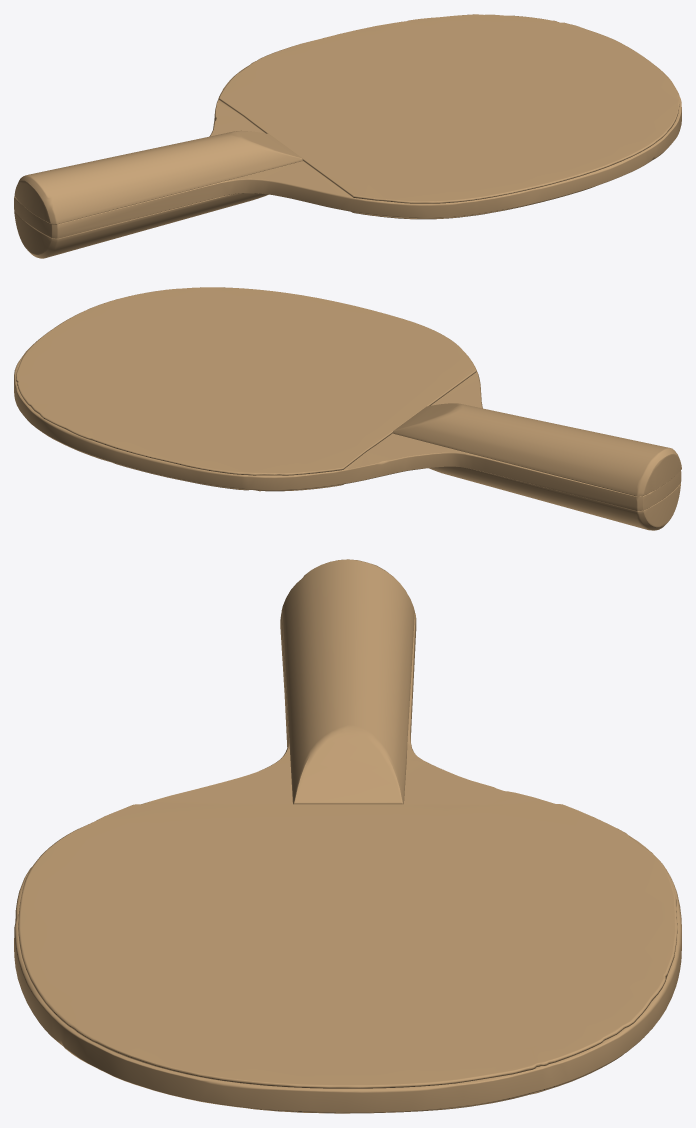
The model's file is misc_toy_pongPaddle_bat_a02.glb.
3 renders of one model, top to bottom at view 1: azimuth 30°, elevation 25°; view 2: azimuth 150°, elevation 25°; view 3: azimuth 270°, elevation 25°, orthographic. The views are drawn at different scales.
Size of the model in its own units: 0.2617 by 0.0312 by 0.1525.
